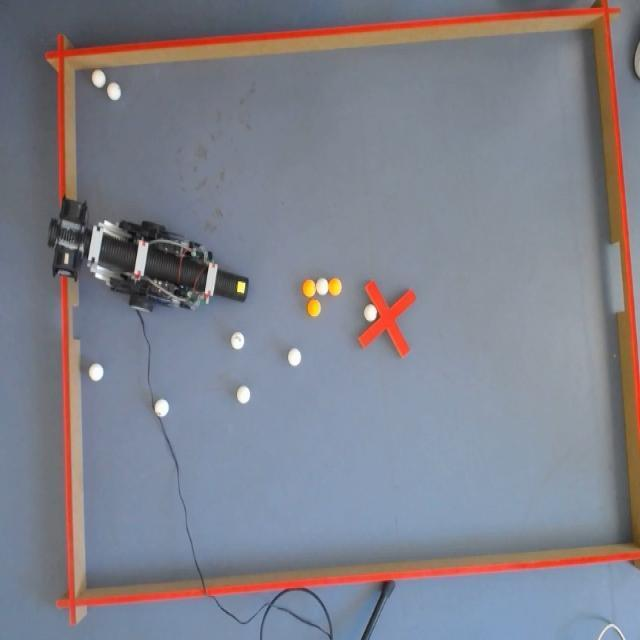orange: (306, 300, 322, 318), (329, 276, 342, 296), (302, 279, 316, 297)
robot: (48, 200, 245, 316)
white: (90, 362, 104, 382), (363, 302, 377, 322), (106, 84, 120, 104), (236, 386, 250, 406), (289, 347, 302, 366), (314, 277, 328, 294), (156, 399, 168, 418), (92, 68, 104, 87), (230, 332, 243, 349)
